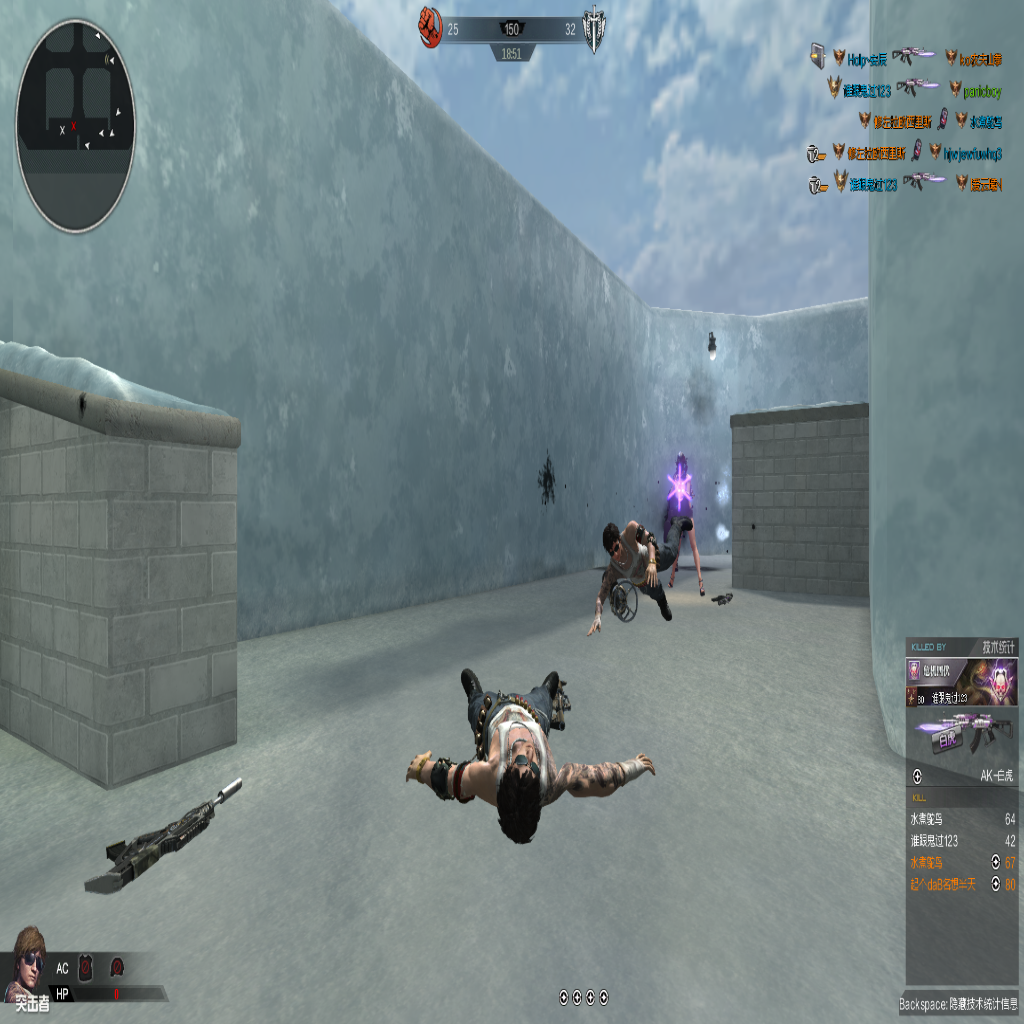ct: (660, 448, 707, 599)
